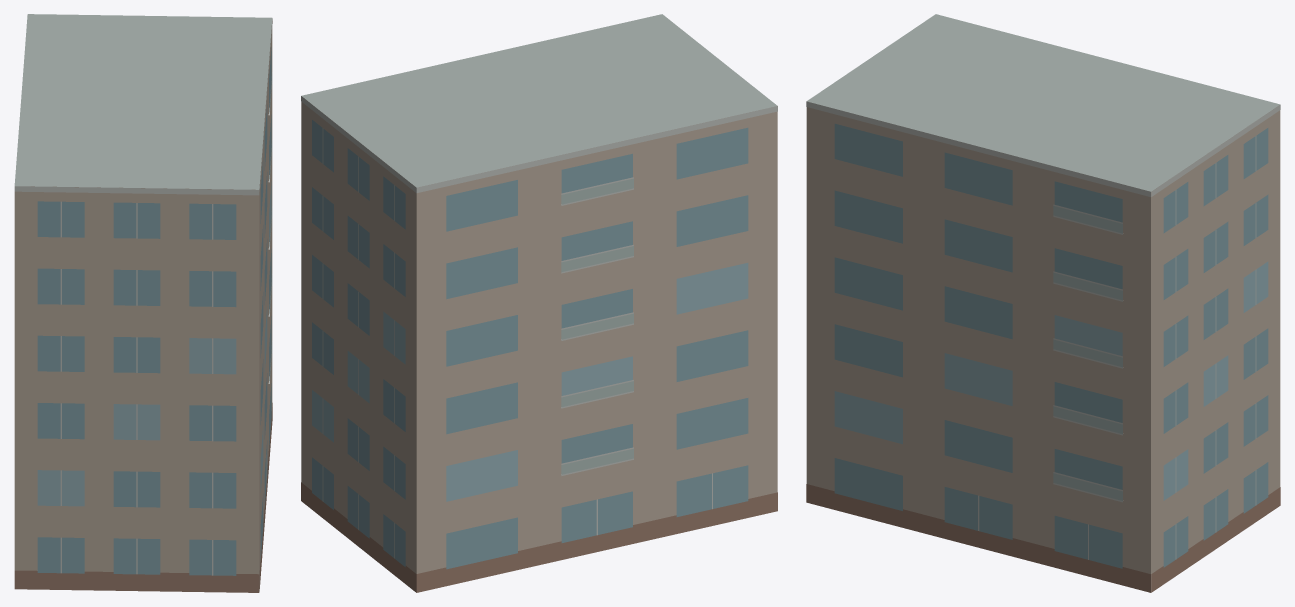
The model's file is survey-upis-32872859.glb.
3 renders of one model, left to right at view 1: azimuth 30°, elevation 25°; view 2: azimuth 150°, elevation 25°; view 3: azimuth 270°, elevation 25°, orthographic.
Parts seen in each view (by area): view 1: survey-upis-32872859.tmp; view 2: survey-upis-32872859.tmp; view 3: survey-upis-32872859.tmp.
Part boxes in pixels (x1,y1,x2,y2): survey-upis-32872859.tmp: (14, 14, 272, 592); survey-upis-32872859.tmp: (301, 14, 777, 592); survey-upis-32872859.tmp: (806, 14, 1280, 592).
Size of the model in its own units: 16.83 by 17.7 by 18.96.
